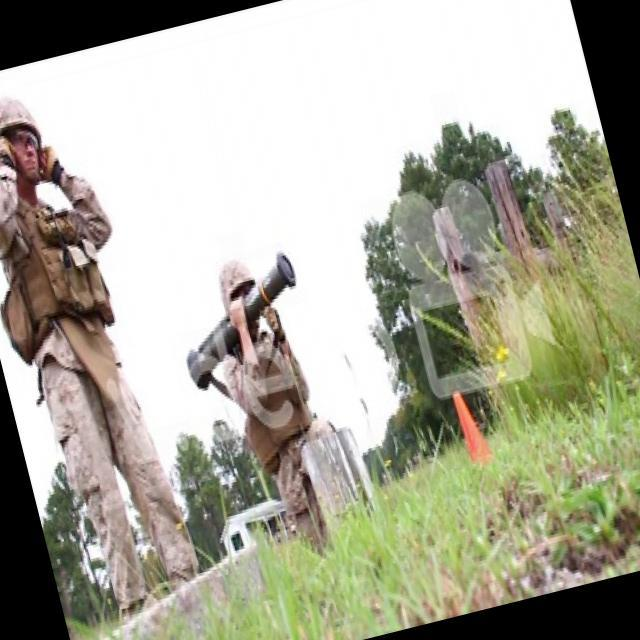rocket: (164, 245, 320, 400)
